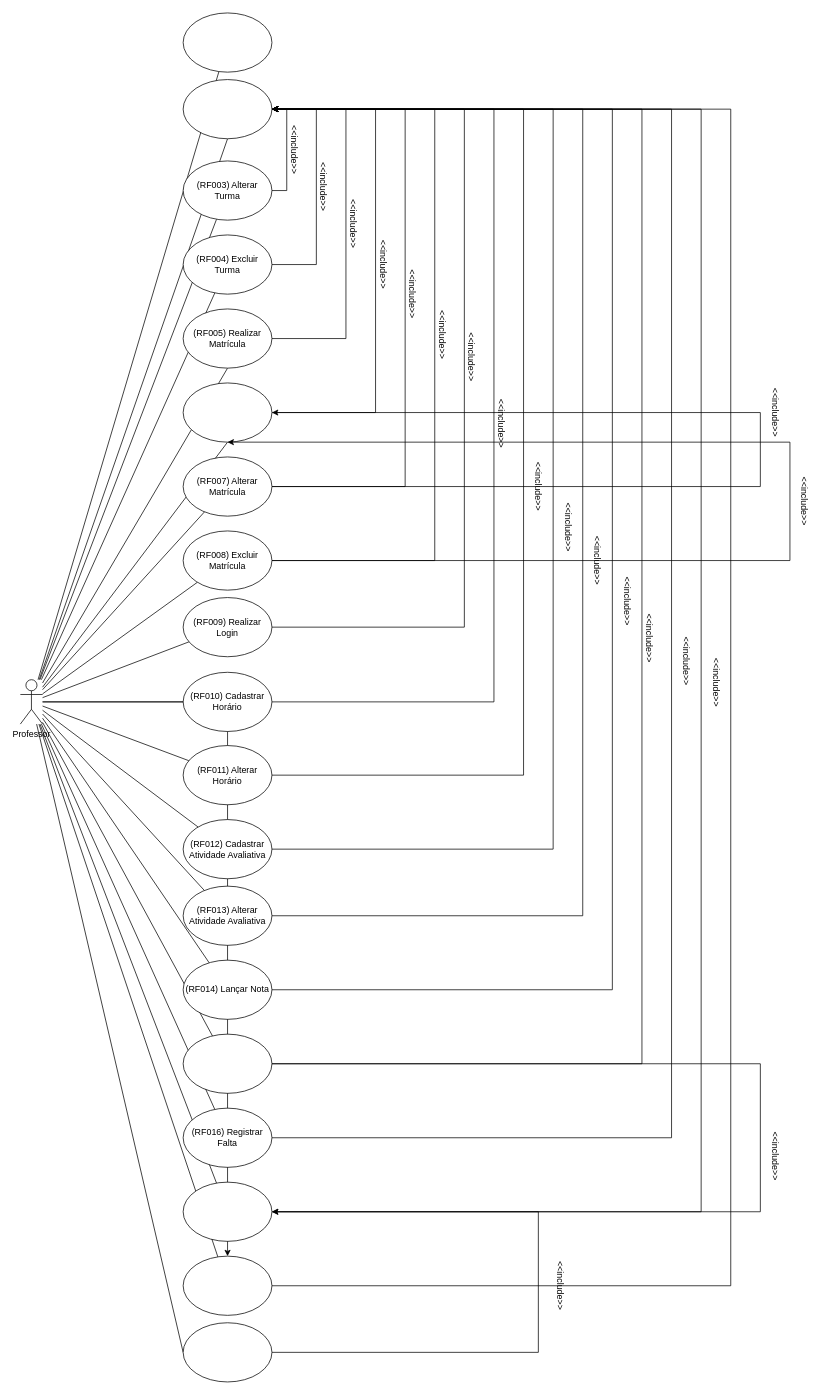
Image size: 829x1395. Some labels were removed from this diagram. Each missing label, with the centre of its shape:
"(RF001) Cadastrar Turma" goes at point 227,42.
"(RF002) Consultar Turma" goes at point 227,109.
"(RF006) Consultar Matrícula" goes at point 227,412.
"(RF015) Alterar Nota" goes at point 227,1063.
"(RF017) Consultar Notas" goes at point 227,1211.
"(RF018) Consultar Faltas" goes at point 227,1285.
"(RF020) Deletar Notas" goes at point 227,1352.
